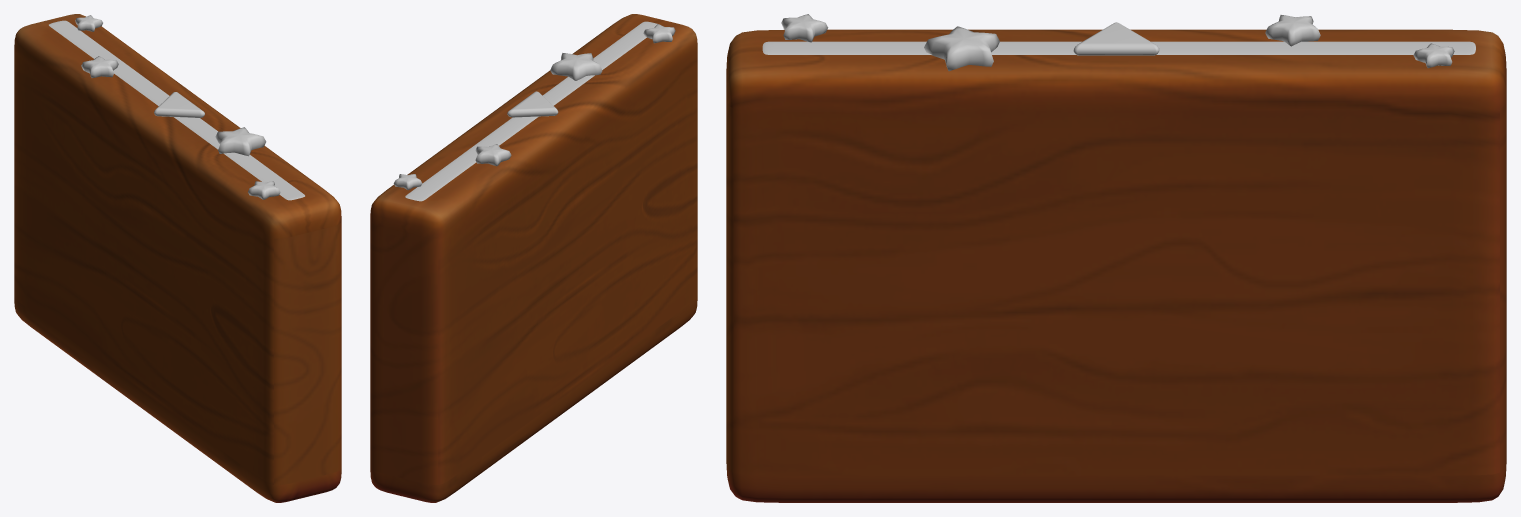
The model's file is wall_3.fbx.
The picture shows the model from 3 angles, left to right: view 1: azimuth 30°, elevation 25°; view 2: azimuth 150°, elevation 25°; view 3: azimuth 270°, elevation 25°; orthographic projection. The views are drawn at different scales.
Parts seen in each view (by area): view 1: wall_3, lego_point, stars, triangle; view 2: wall_3, lego_point, stars, triangle; view 3: wall_3, lego_point, stars, triangle.
Part boxes in pixels (x1,y1,x2,y2): wall_3: (14, 14, 341, 502); lego_point: (49, 20, 304, 200); stars: (75, 15, 280, 199); triangle: (154, 92, 204, 117); wall_3: (370, 14, 697, 502); lego_point: (405, 21, 659, 201); stars: (393, 24, 675, 190); triangle: (507, 91, 558, 117); wall_3: (726, 29, 1506, 502); lego_point: (762, 41, 1475, 54); stars: (781, 14, 1454, 71); triangle: (1073, 22, 1159, 55).
Bounding box in the file's own units: 0.5 × 1.93 × 3.02.
